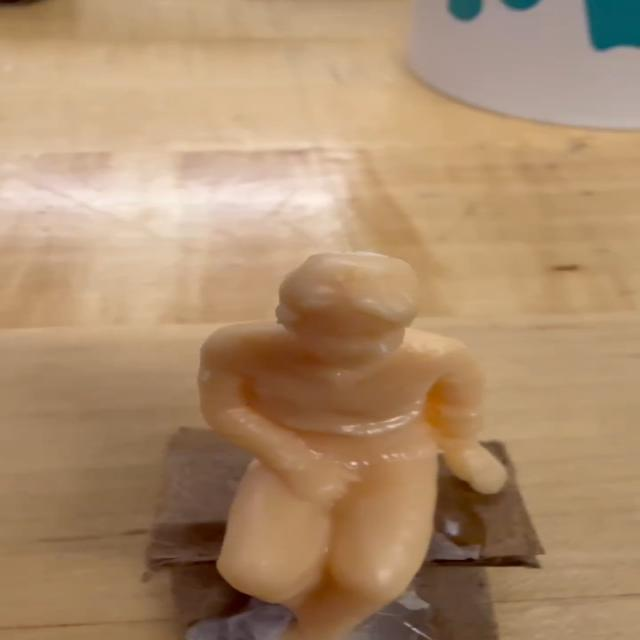Unauthorized: (209, 219, 519, 631)
